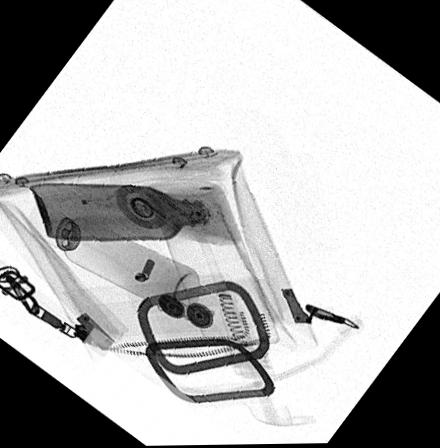Sprayer: (27, 203, 200, 317)
